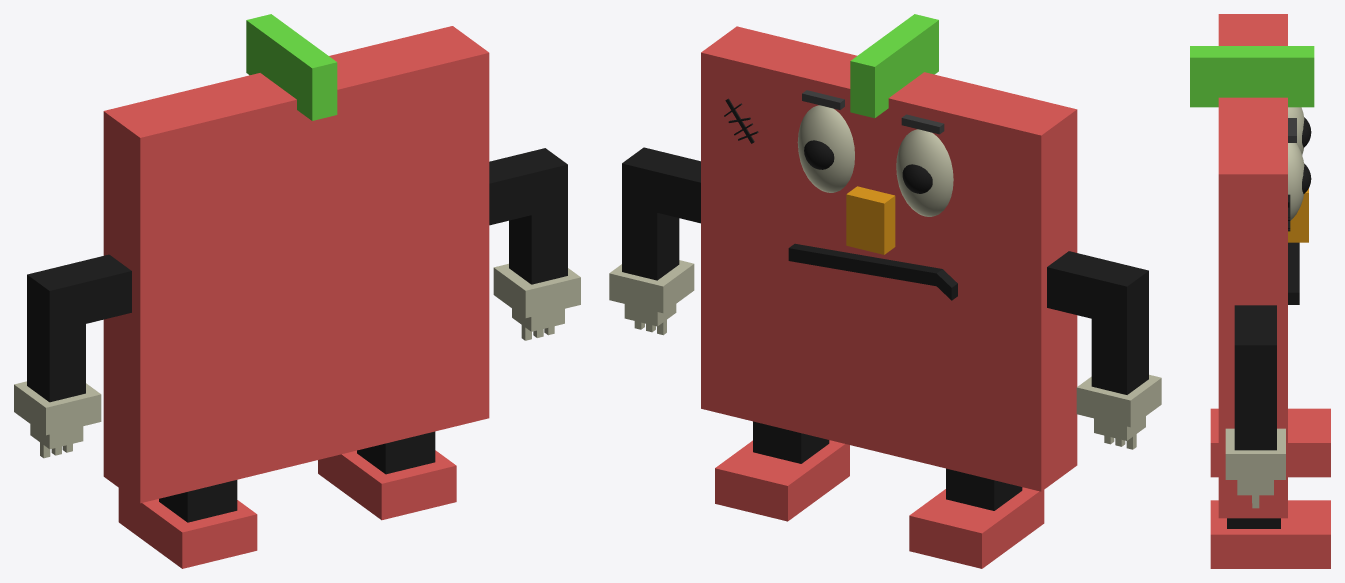
The model's file is Jugador1.fbx.
3 renders of one model, left to right at view 1: azimuth 30°, elevation 25°; view 2: azimuth 150°, elevation 25°; view 3: azimuth 270°, elevation 25°, orthographic. The views are drawn at different scales.
Parts seen in each view (by area): view 1: Cube.011; view 2: Cube.011; view 3: Cube.011.
Part boxes in pixels (x1,y1,x2,y2): Cube.011: [14, 14, 580, 568]; Cube.011: [609, 14, 1161, 568]; Cube.011: [1190, 14, 1330, 568].
Bounding box in the file's own units: 157 × 135 × 38.02.
